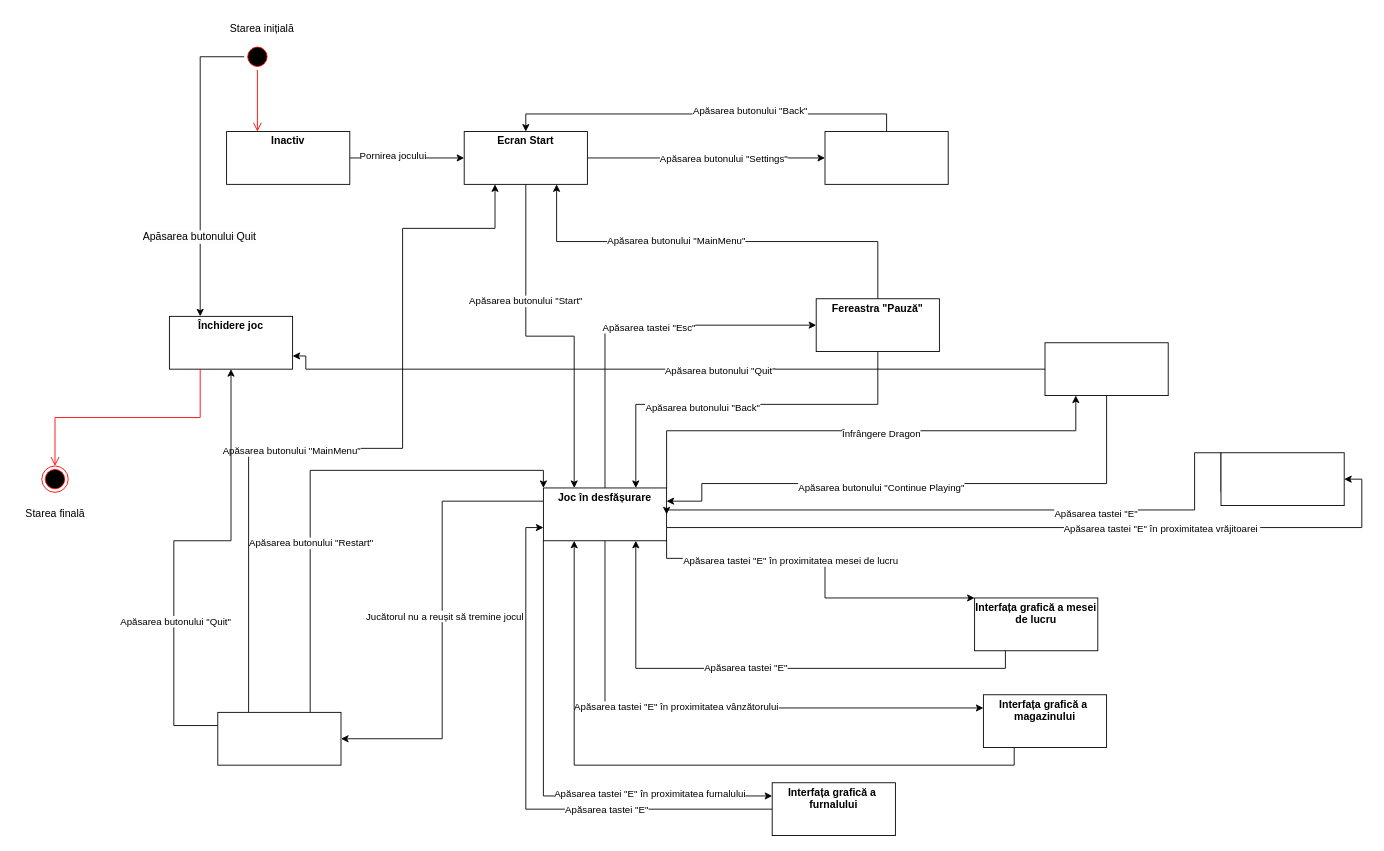
Some shapes in this 1384 by 851 pixel diagram are drawn without their labels. Each missing label, with the centre of its shape:
Fereastră configurare setări: pixel 886 157
Interfața grafică "Congratulations ": pixel 1106 369
Interfața grafică "GameOver": pixel 279 738
Interfața grafică a pentru îmbunătățirea statusurilor: pixel 1282 479
